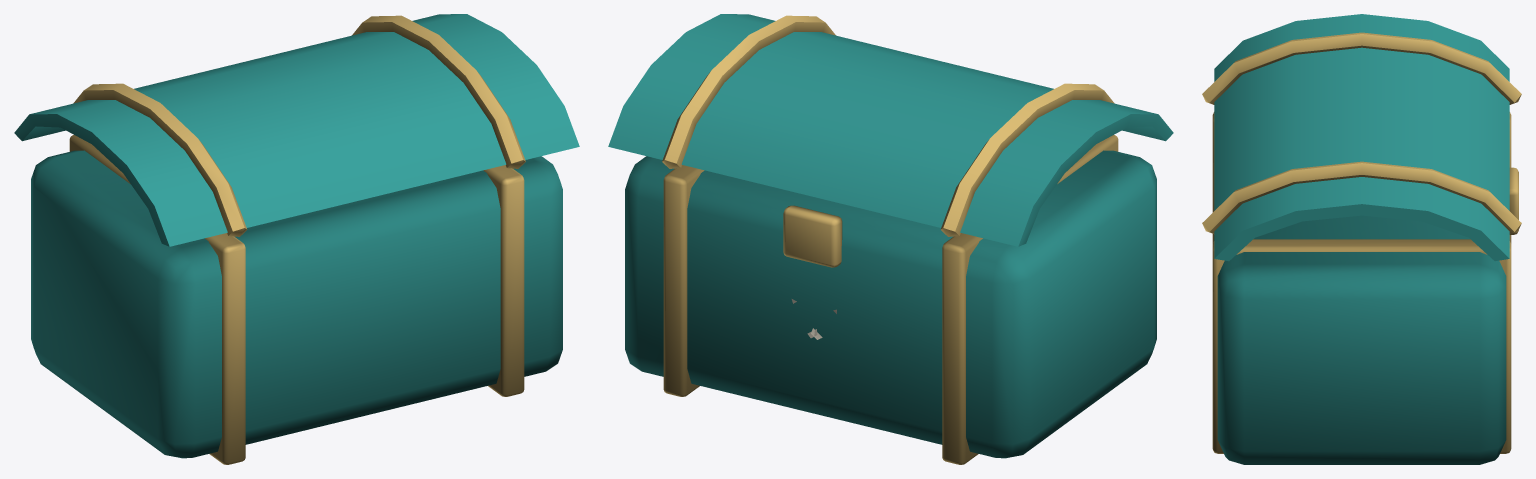
File: EDV2_CampCrate.fbx
3 renders of one model, left to right at view 1: azimuth 30°, elevation 25°; view 2: azimuth 150°, elevation 25°; view 3: azimuth 270°, elevation 25°, orthographic. The views are drawn at different scales.
Visible parts, largest first — view 1: Chest, Hardware.010; view 2: Chest, Hardware.010; view 3: Chest, Hardware.010.
Part boxes in pixels (left/top/right/bottom): Chest: left=14, top=14, right=579, bottom=458; Hardware.010: left=69, top=15, right=525, bottom=464; Chest: left=608, top=14, right=1173, bottom=458; Hardware.010: left=662, top=15, right=1118, bottom=464; Chest: left=1214, top=14, right=1509, bottom=464; Hardware.010: left=1202, top=32, right=1521, bottom=453.
Size of the model in its own units: 0.53 by 0.3754 by 0.3768.
